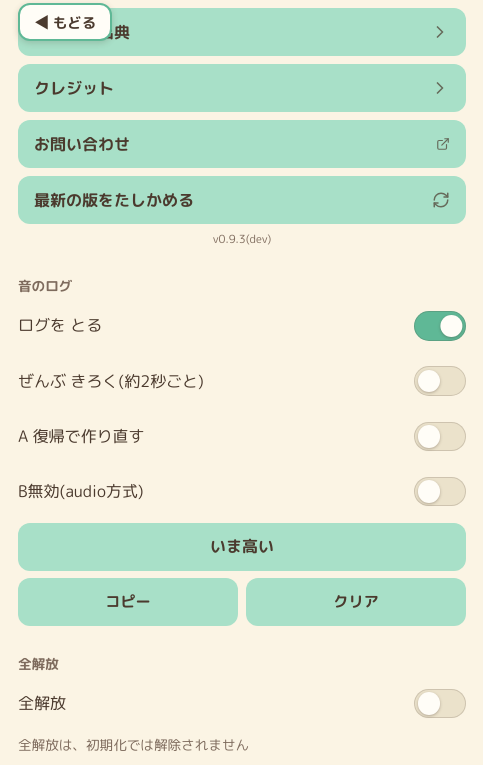
Test case: 設定画面: 音のログ(調査用。ふだんは見えない) › 「ぜんぶ きろく」のスイッチ: ログが切れているあいだは押せない。入れると、保存される
(page scrolled)
Check: the label "ぜんぶ きろく(約2秒ごと)" is shown, box [18, 357, 466, 405]
Click the switch labelled "ぜんぶ きろく(約2秒ごと)" at [440, 381], box [414, 366, 466, 396]
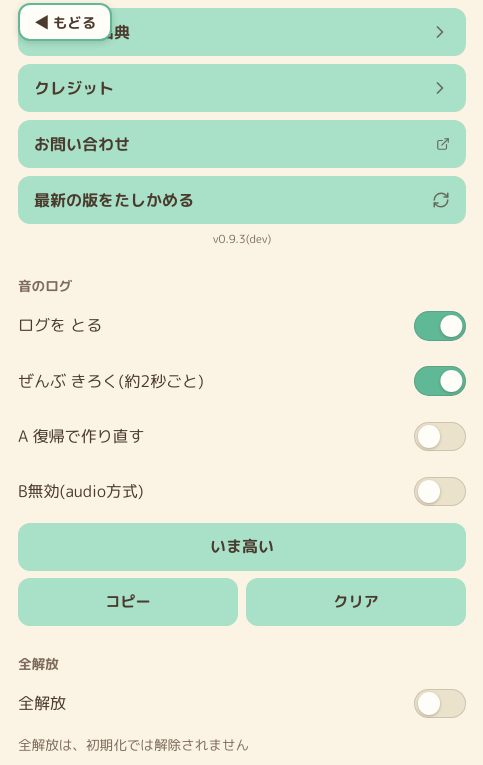
Check: the switch labelled "ぜんぶ きろく(約2秒ごと)" is checked, box [414, 366, 466, 396]
Click the switch labelled "ログを とる" at [440, 326], box [414, 311, 466, 341]
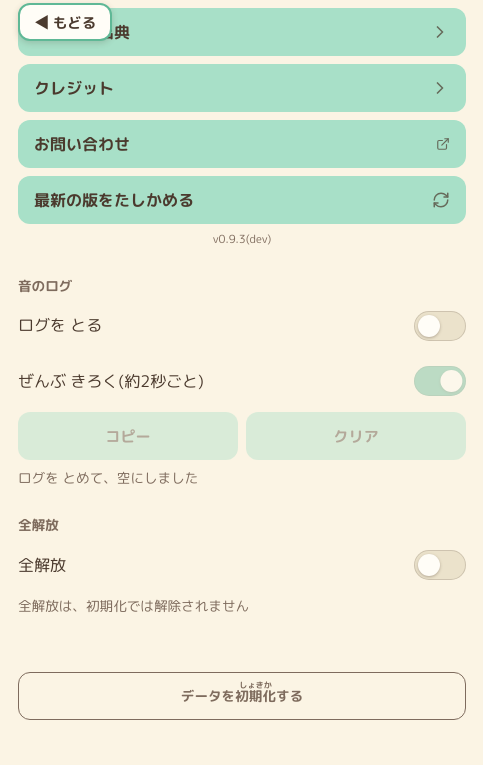
Check: the switch labelled "ぜんぶ きろく(約2秒ごと)" is disabled, box [414, 366, 466, 396]
